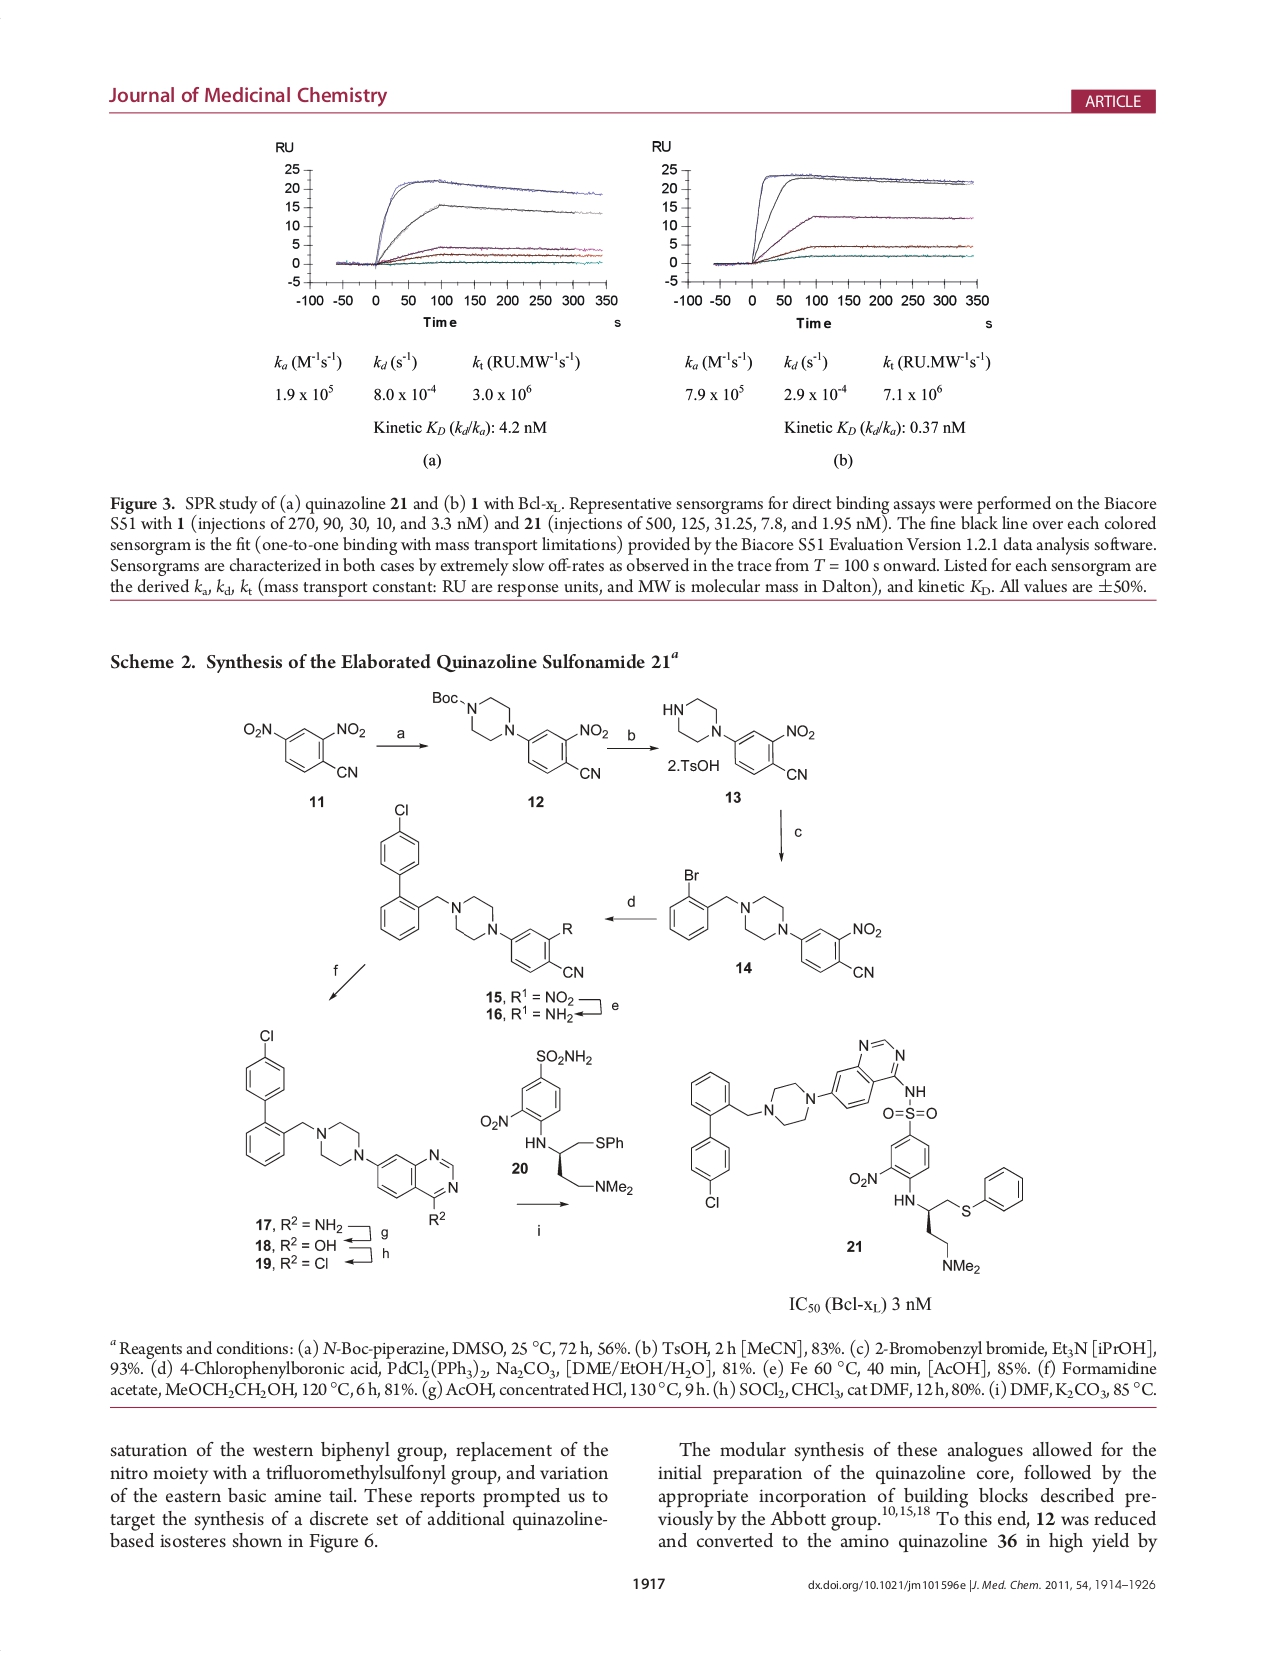exist_molecular: (685, 1035, 1028, 1275), (238, 1027, 460, 1226), (376, 801, 590, 985), (666, 864, 886, 984), (475, 1041, 636, 1200), (430, 684, 609, 785), (660, 694, 818, 786), (237, 714, 370, 785)
